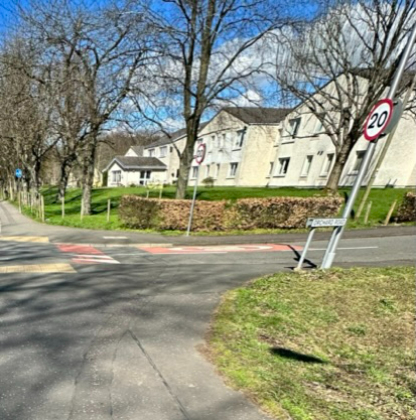tree: (289, 2, 416, 192), (147, 2, 268, 188), (56, 0, 155, 219)
